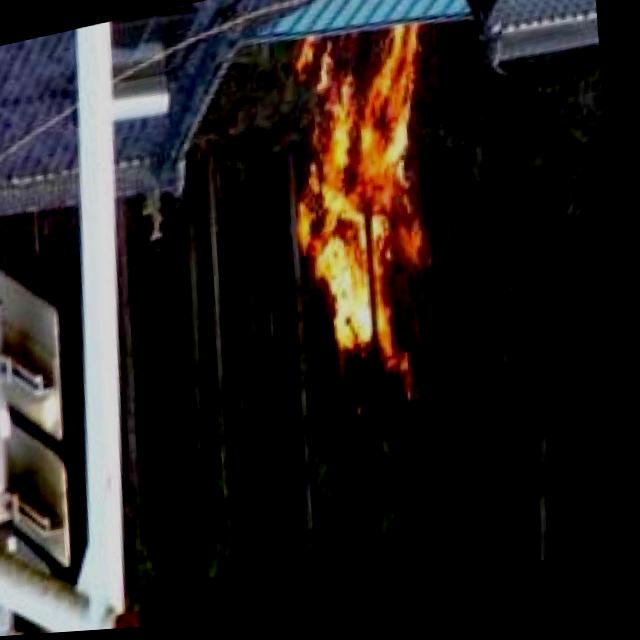Fire: (252, 13, 485, 416)
